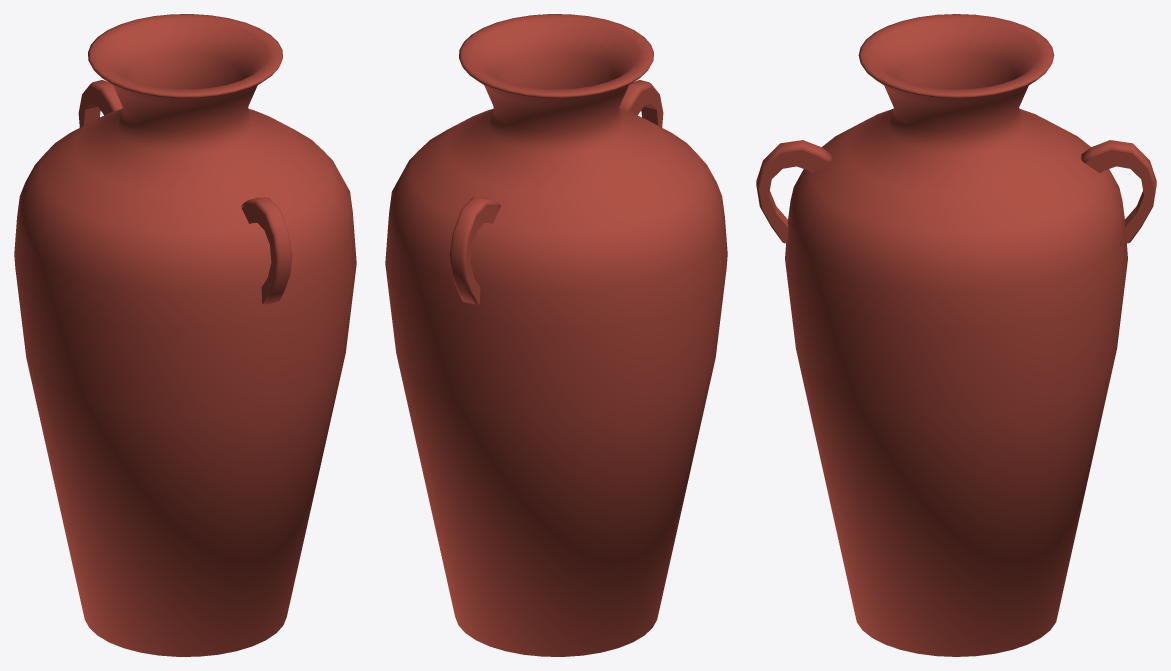
Rendered from jar.fbx.
3 renders of one model, left to right at view 1: azimuth 30°, elevation 25°; view 2: azimuth 150°, elevation 25°; view 3: azimuth 270°, elevation 25°, orthographic.
Parts seen in each view (by area): view 1: Cylinder; view 2: Cylinder; view 3: Cylinder.
Part boxes in pixels (box(x1,y1,x2,y2)): Cylinder: box(14, 14, 356, 656); Cylinder: box(385, 14, 727, 656); Cylinder: box(756, 14, 1156, 656).
Size of the model in its own units: 39.57 by 71.24 by 46.16.
